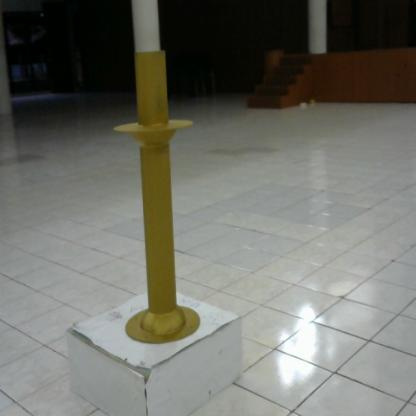pole: (110, 39, 215, 350)
